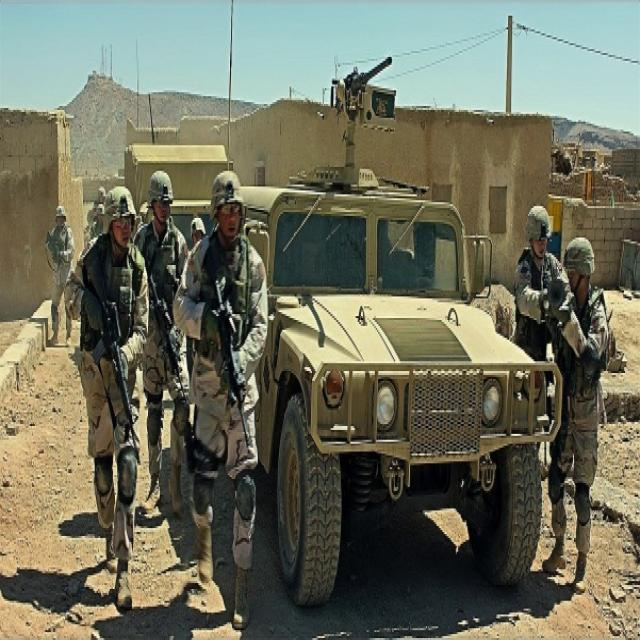rifle: (213, 275, 256, 457), (103, 299, 143, 472)
